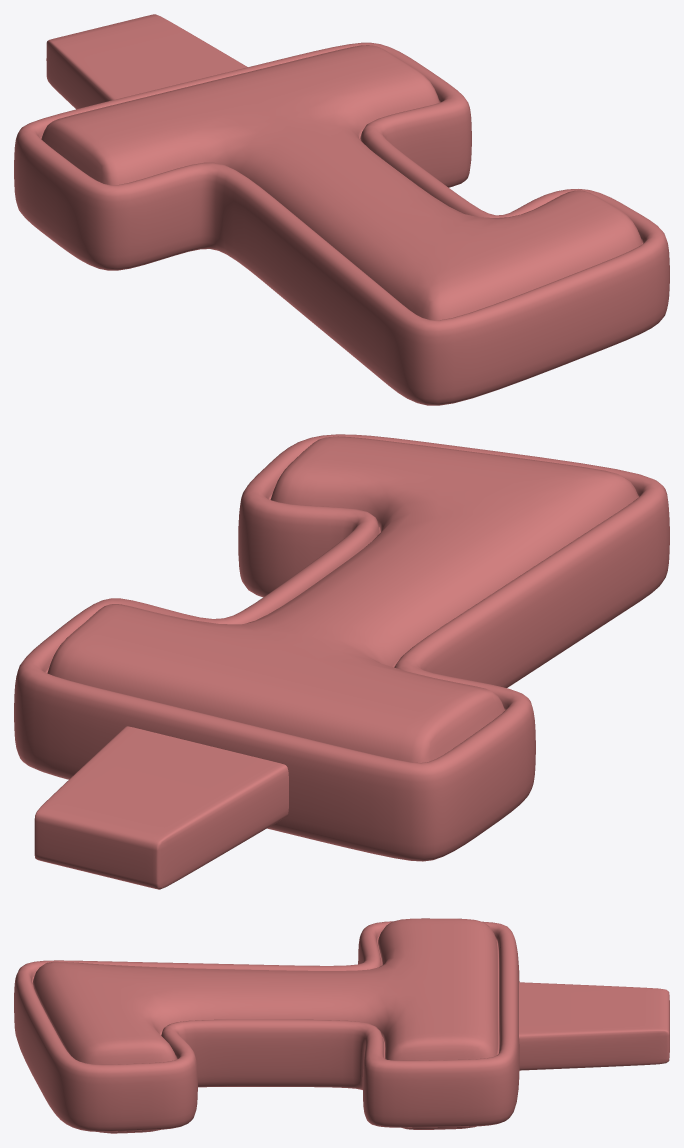
The picture shows the model from 3 angles, top to bottom: view 1: azimuth 30°, elevation 25°; view 2: azimuth 150°, elevation 25°; view 3: azimuth 270°, elevation 25°; orthographic projection. The views are drawn at different scales.
Parts seen in each view (by area): view 1: _Number_1_v1:_Number_1_v1; view 2: _Number_1_v1:_Number_1_v1; view 3: _Number_1_v1:_Number_1_v1.
Boxes of the visible parts, left/top/right/bottom form: _Number_1_v1:_Number_1_v1: left=14, top=14, right=669, bottom=405; _Number_1_v1:_Number_1_v1: left=14, top=434, right=669, bottom=889; _Number_1_v1:_Number_1_v1: left=14, top=918, right=669, bottom=1133.
Bounding box in the file's own units: 7.19 × 1.99 × 12.98.
